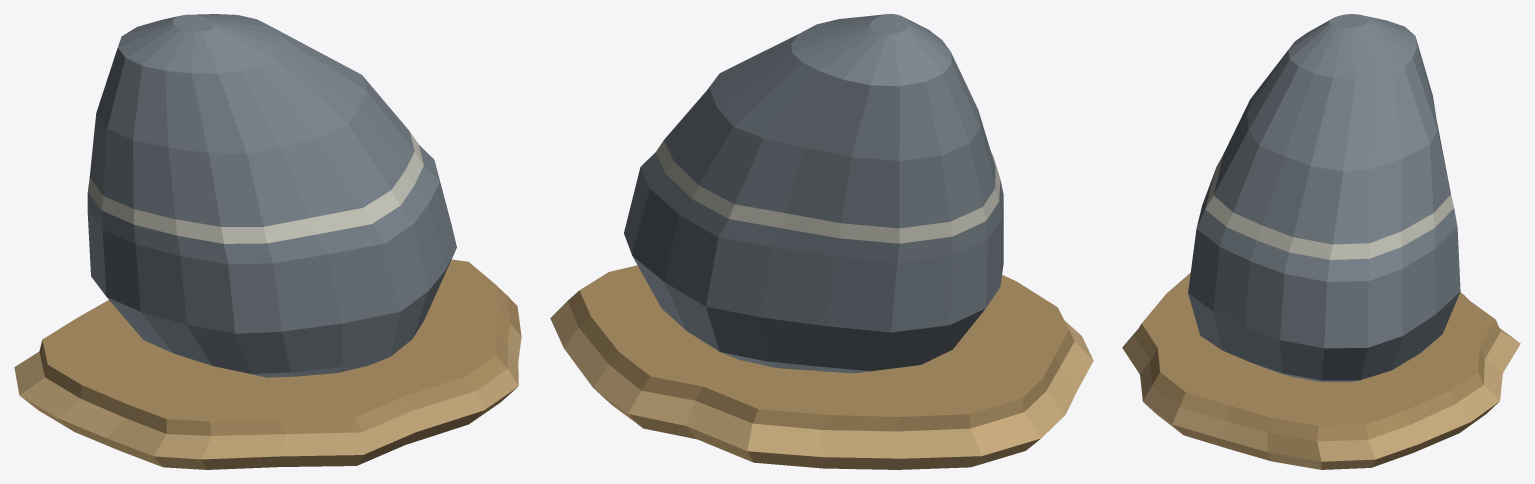
Rendered from glacial-erratic.glb.
3 views of the same model, side by side, from view 1: azimuth 30°, elevation 25°; view 2: azimuth 150°, elevation 25°; view 3: azimuth 270°, elevation 25° (orthographic). The views are drawn at different scales.
Parts seen in each view (by area): view 1: single-asymmetric-erratic-with-integral-vein, irregular-stratified-bedrock; view 2: single-asymmetric-erratic-with-integral-vein, irregular-stratified-bedrock; view 3: single-asymmetric-erratic-with-integral-vein, irregular-stratified-bedrock.
Part boxes in pixels (x1,y1,x2,y2): single-asymmetric-erratic-with-integral-vein: (87,14,456,377); irregular-stratified-bedrock: (14,259,521,469); single-asymmetric-erratic-with-integral-vein: (624,14,1003,373); irregular-stratified-bedrock: (550,265,1093,469); single-asymmetric-erratic-with-integral-vein: (1188,14,1460,381); irregular-stratified-bedrock: (1122,273,1520,469).
Bounding box in the file's own units: 3.56 × 2.67 × 2.96.
